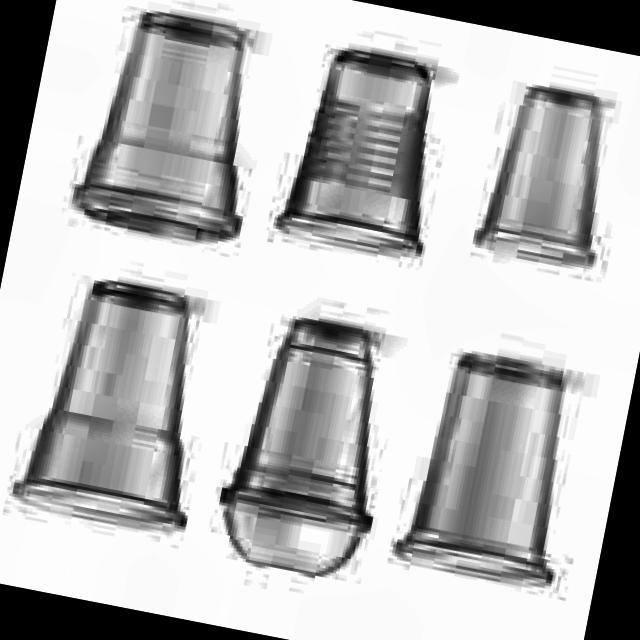plastic cup: (17, 287, 187, 528), (221, 322, 370, 575), (75, 19, 242, 241), (400, 363, 563, 583), (281, 58, 430, 255), (478, 89, 594, 265)
